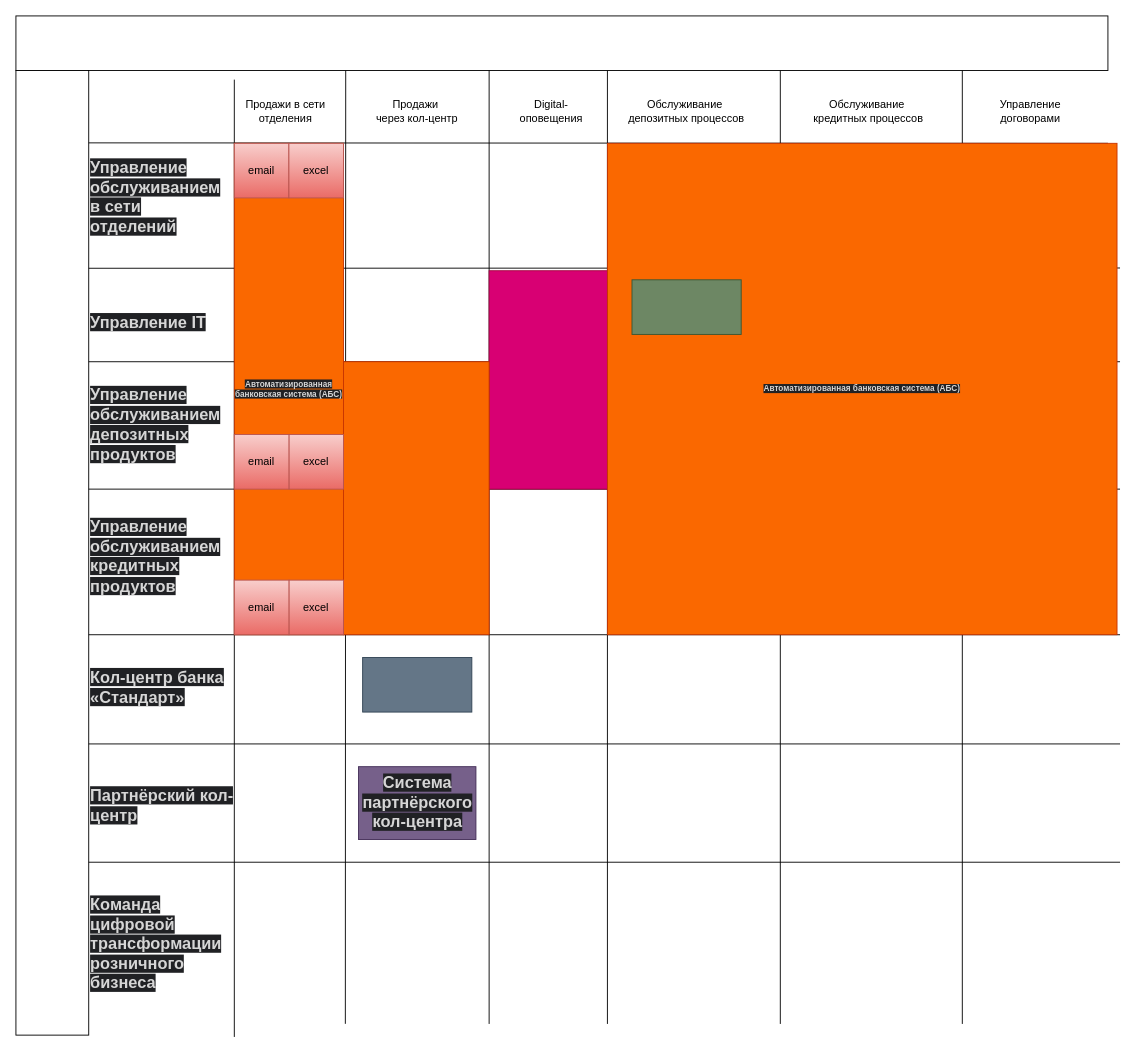
Image size: 1138x1054. Some labels were removed from this diagram. Each missing label, with the centre of its shape:
Бизнес-возможности: [561,43]
Интернет-банк: [686,306]
организационная структура: [52,552]
Система кол-центра: [417,684]
СМС-шлюз телеком-оператора: [547,379]
